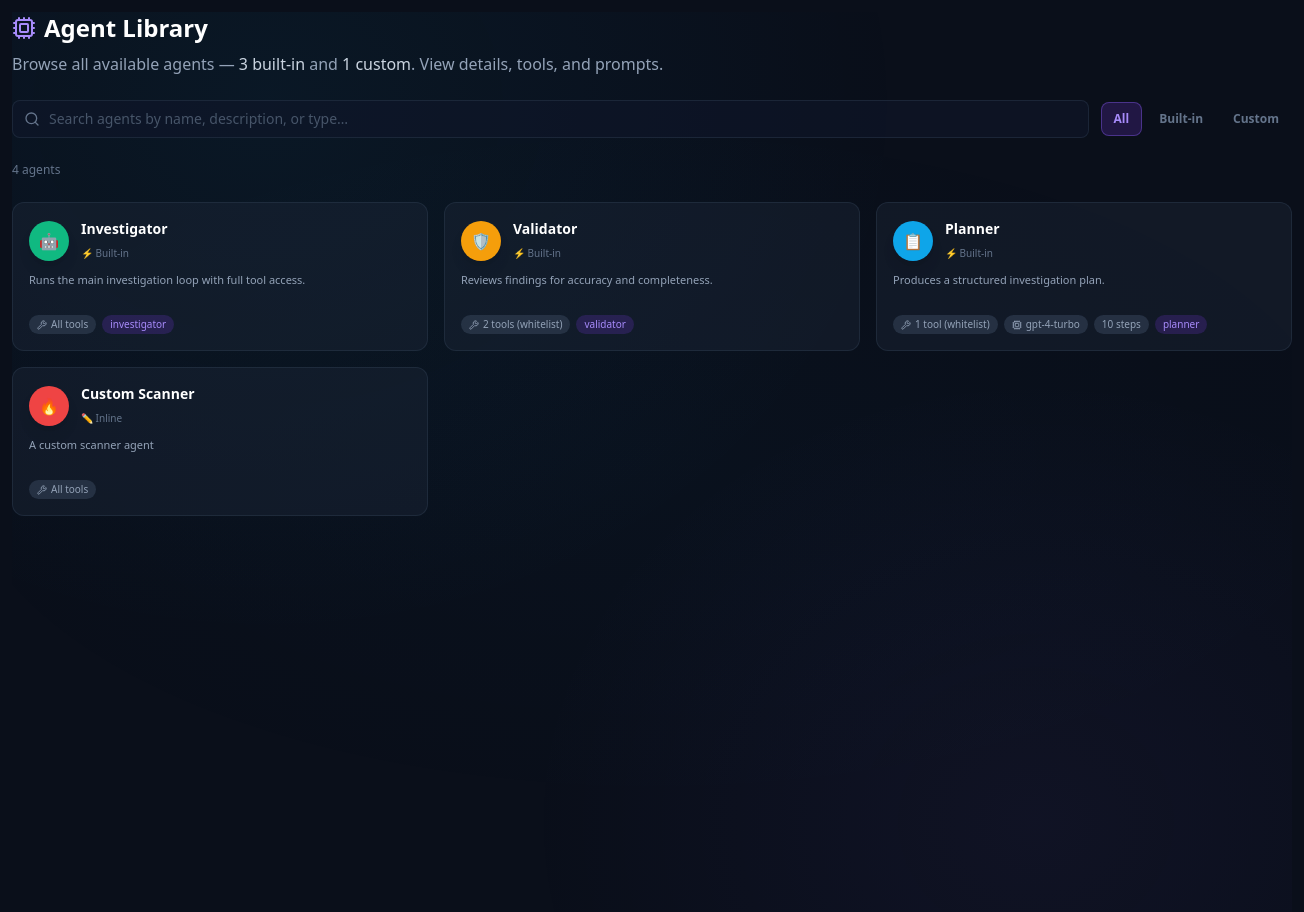
AgentLibrary › filters out non-builtin agents in Built-in tab
The image size is (1304, 912).
Expected: the heading "Custom Scanner" is shown, [81,384,195,403]
Click the button "Built-in" at (1181, 119), box [1146,102,1216,136]
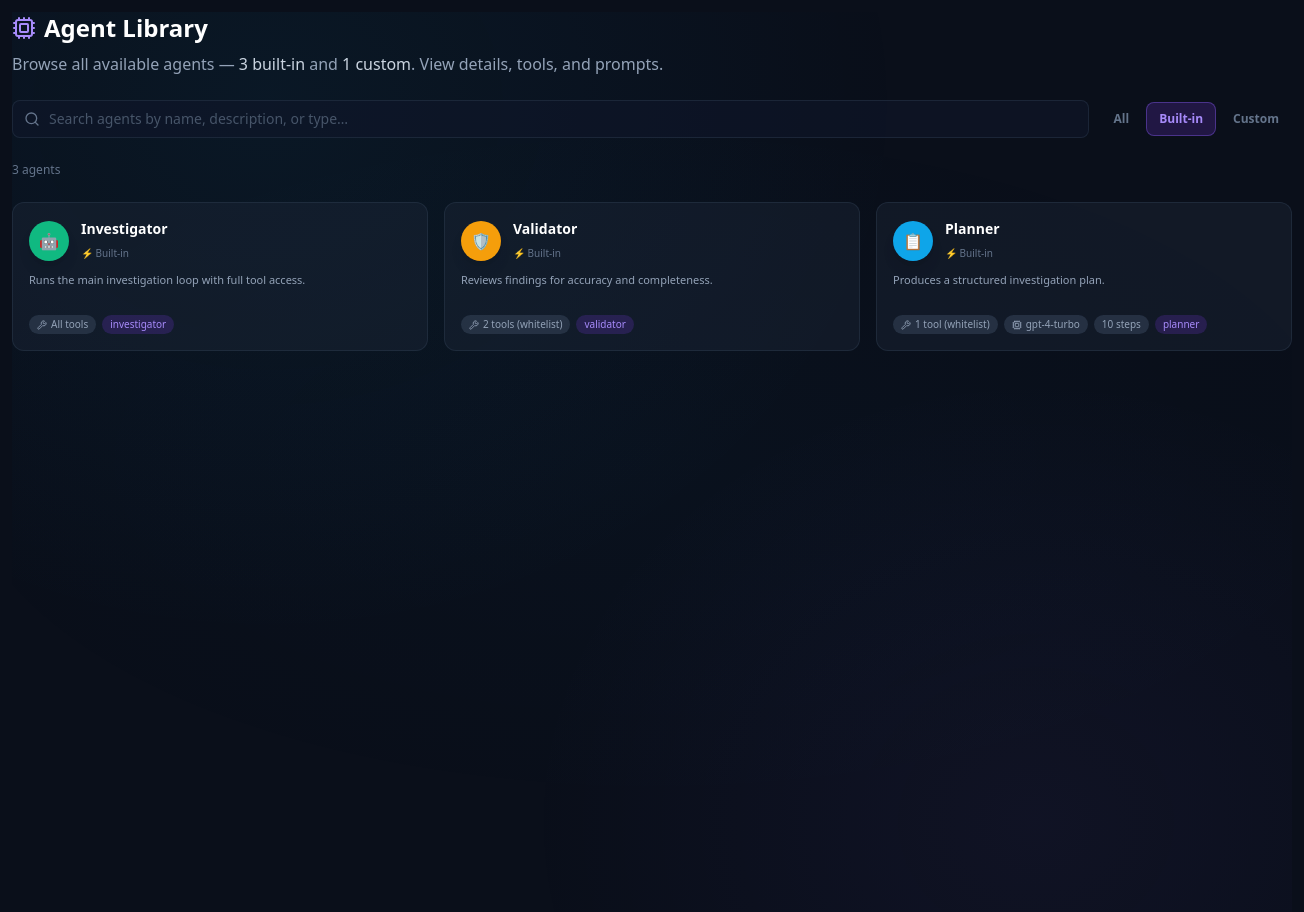
Expected: the heading "Investigator" is shown, [81,219,168,238]
Expected: the heading "Custom Scanner" is gone
